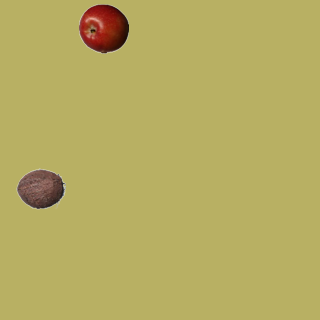Apple Braeburn: (78, 3, 128, 53)
Cocos: (15, 163, 65, 213)
